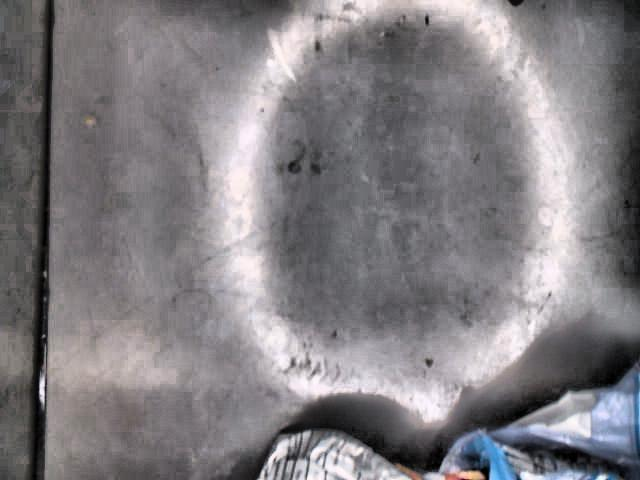Plastic: (256, 360, 640, 480)
